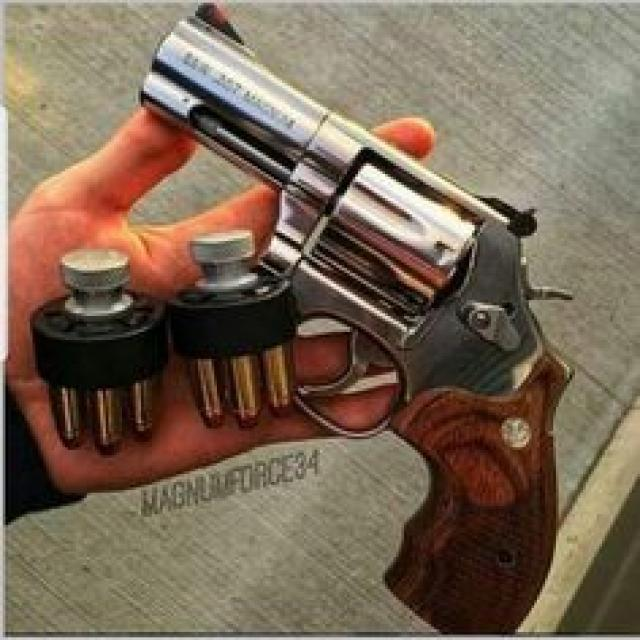revolver: (105, 12, 598, 636)
